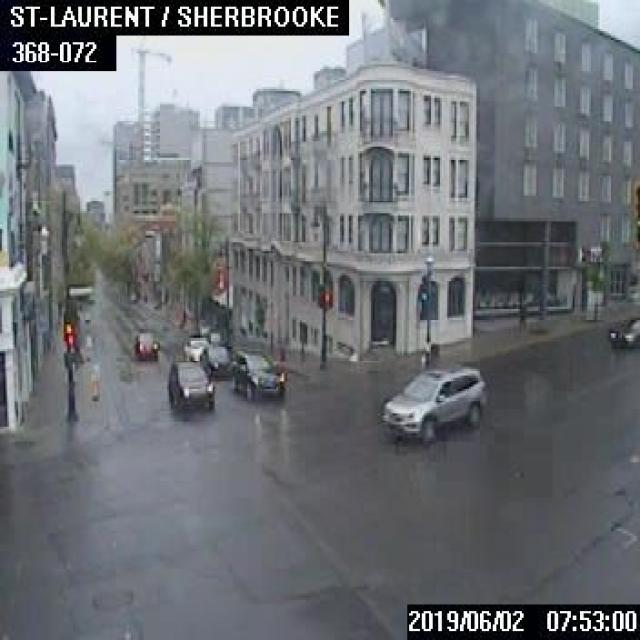vehicle: (382, 366, 485, 438), (231, 347, 284, 398), (167, 358, 213, 408), (198, 339, 233, 375), (609, 313, 638, 347), (132, 329, 158, 358), (180, 334, 208, 360)
